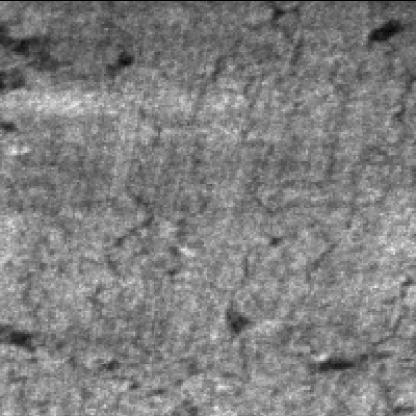crazing: (183, 16, 368, 204), (223, 227, 367, 416), (94, 144, 214, 328)
